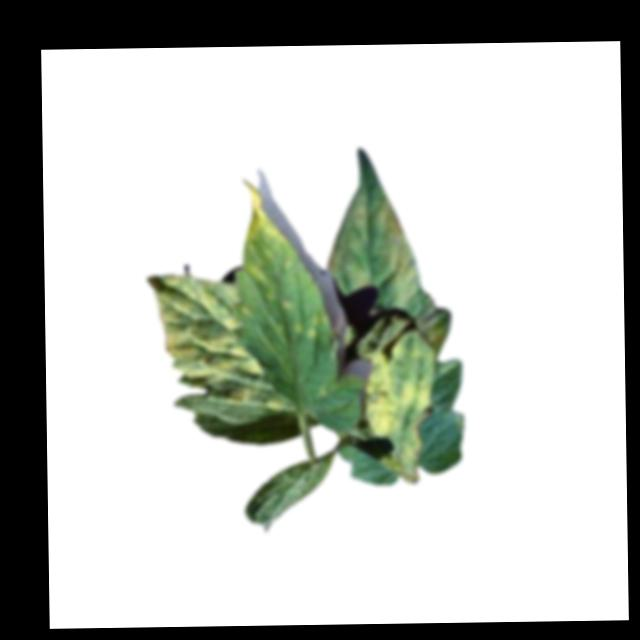Leaf_Mold: (147, 274, 267, 407), (326, 194, 422, 310), (363, 342, 433, 476), (240, 178, 297, 278)
